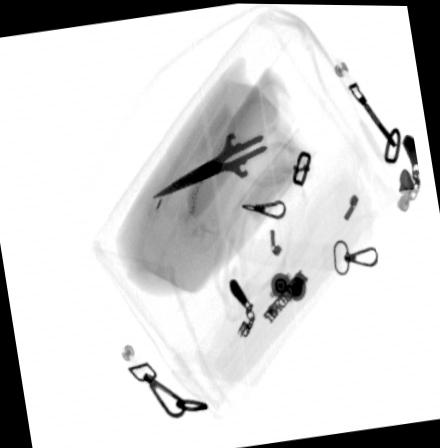Scissors: (153, 77, 300, 198)
